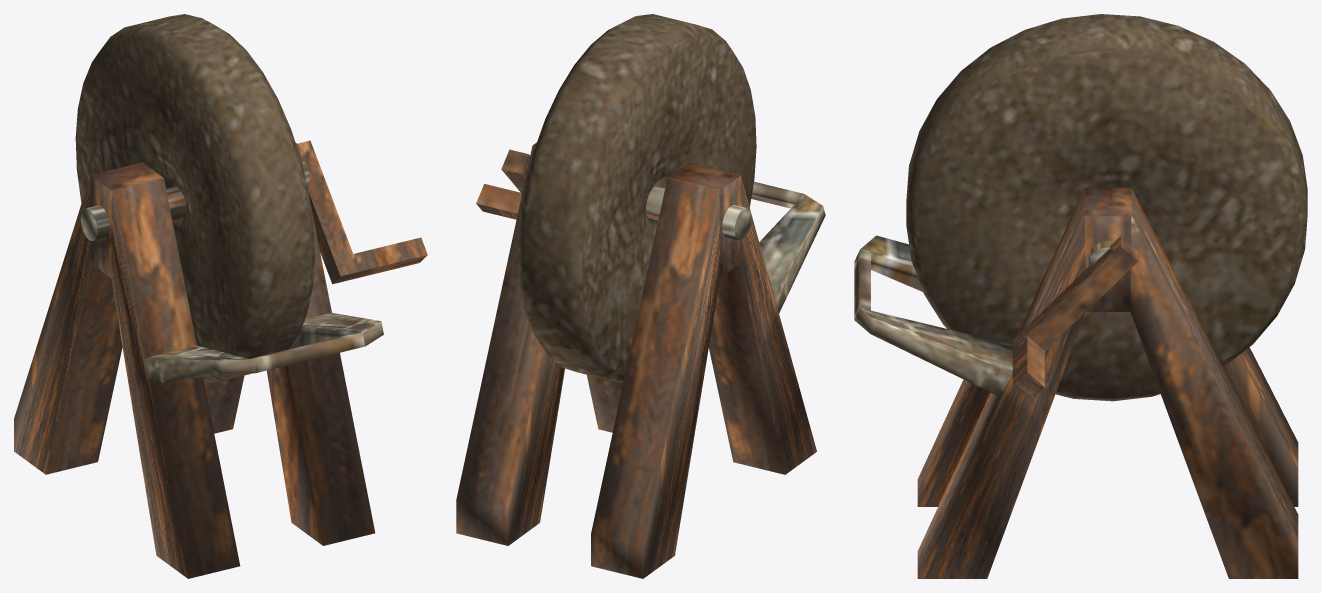
File: item-sharpening-stone.fbx
The picture shows the model from 3 angles, left to right: view 1: azimuth 30°, elevation 25°; view 2: azimuth 150°, elevation 25°; view 3: azimuth 270°, elevation 25°; orthographic projection. The views are drawn at different scales.
Visible parts, largest first — view 1: Item-sharpening-stone, Item-sharpening-stone-handle; view 2: Item-sharpening-stone, Item-sharpening-stone-handle; view 3: Item-sharpening-stone-handle, Item-sharpening-stone.
Boxes of the visible parts, box(x1,y1,x2,y2) form: Item-sharpening-stone: box(14, 142, 383, 578); Item-sharpening-stone-handle: box(75, 14, 427, 383); Item-sharpening-stone: box(456, 142, 825, 578); Item-sharpening-stone-handle: box(476, 14, 756, 382); Item-sharpening-stone-handle: box(906, 14, 1307, 401); Item-sharpening-stone: box(854, 187, 1298, 578).
Bounding box in the file's own units: 75.54 × 112 × 91.8.
